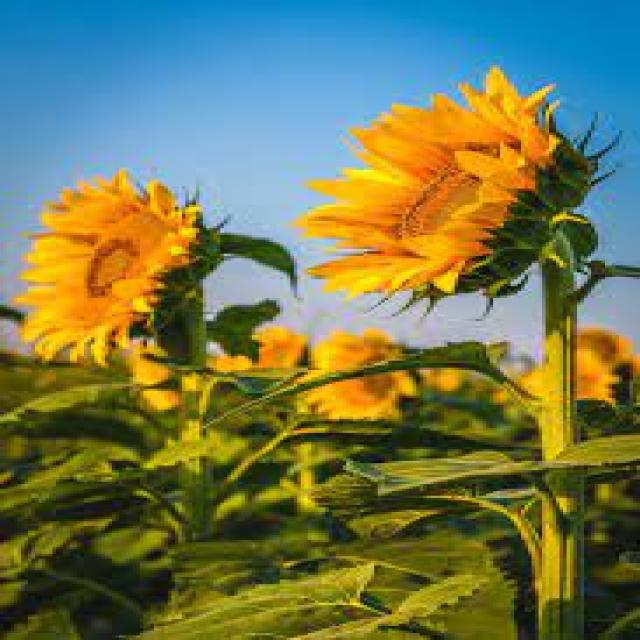sunflower: (294, 62, 564, 302), (10, 166, 203, 366), (294, 331, 416, 422), (520, 349, 619, 407), (208, 326, 310, 376), (122, 343, 180, 412), (567, 328, 626, 360), (424, 367, 467, 391), (606, 354, 640, 378)
